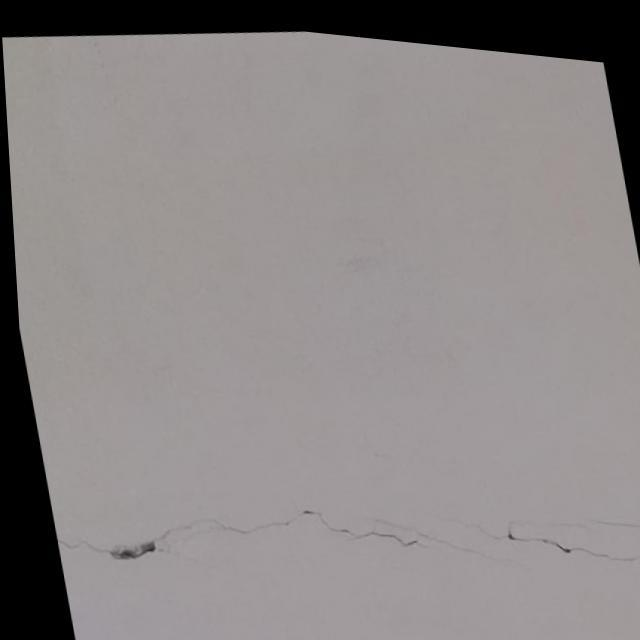Crack: (66, 505, 633, 574)
